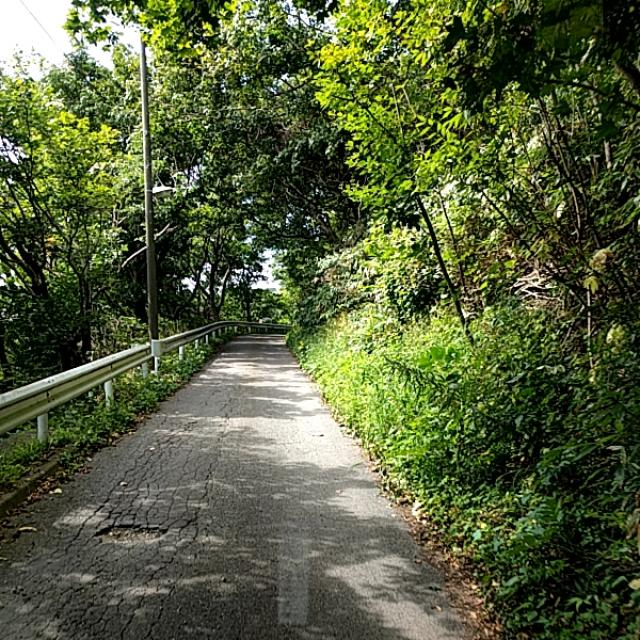pothole: (58, 550, 178, 630), (184, 379, 246, 470)
